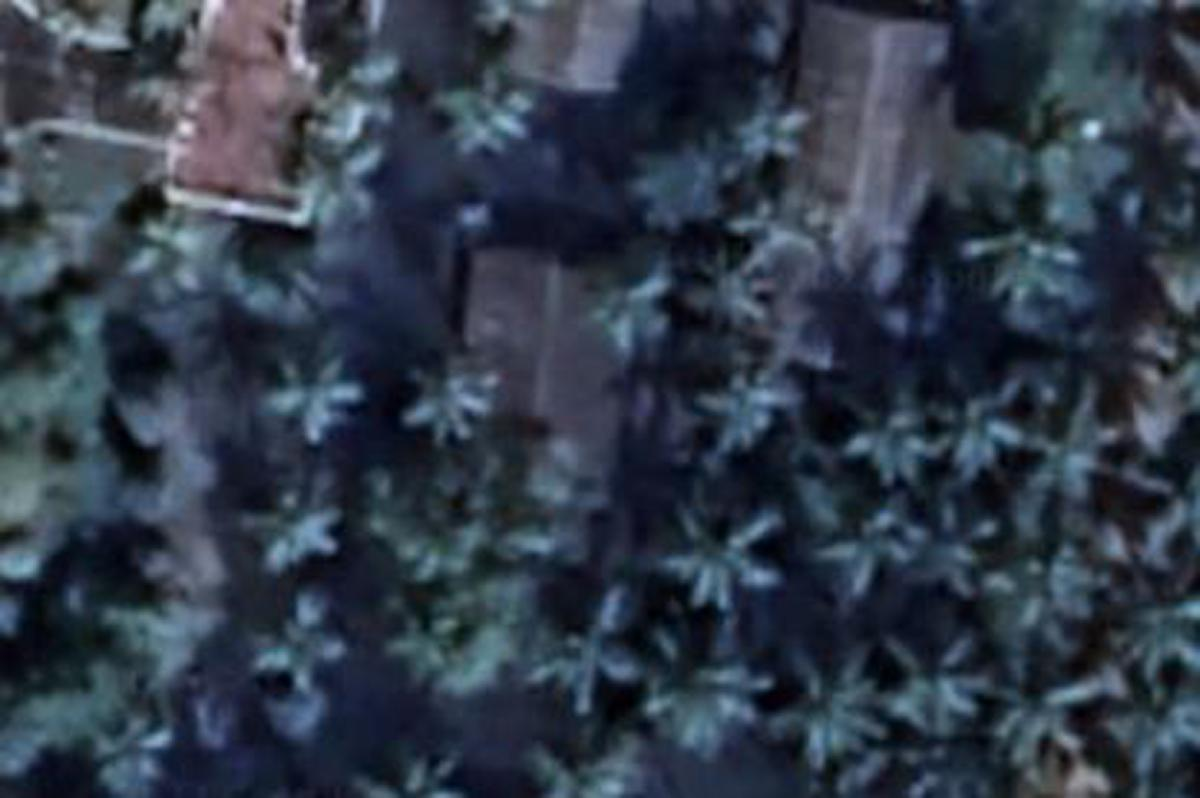coconut: (1000, 378, 1119, 500), (977, 650, 1104, 763), (647, 627, 766, 745), (951, 199, 1084, 297), (772, 653, 884, 760), (662, 505, 774, 610), (242, 465, 349, 572), (818, 491, 925, 598), (540, 595, 644, 705), (248, 595, 352, 702), (263, 355, 370, 448), (430, 69, 537, 161), (905, 505, 1006, 601), (722, 185, 826, 277), (586, 260, 679, 358), (928, 384, 1026, 477), (881, 638, 977, 731), (401, 364, 503, 451), (378, 595, 471, 688), (1113, 581, 1200, 679), (855, 396, 948, 482), (696, 372, 795, 445), (306, 133, 390, 219), (740, 86, 809, 164), (401, 225, 404, 237)
